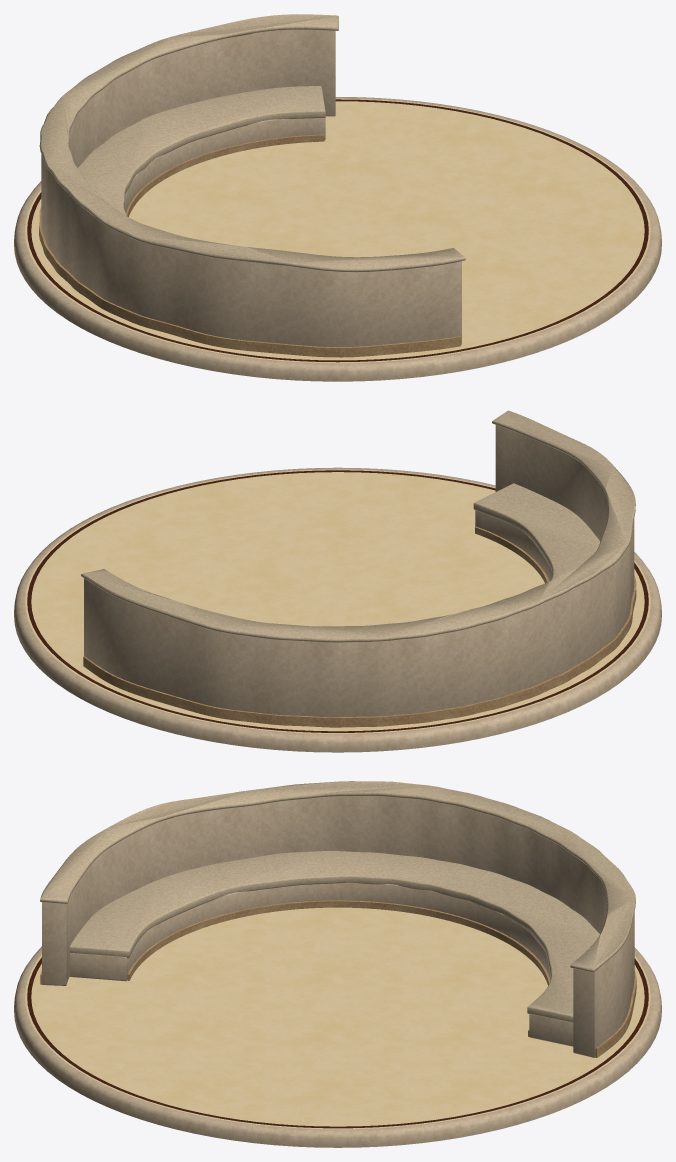
Rendered from structure.glb.
3 views of the same model, one above another, from view 1: azimuth 30°, elevation 25°; view 2: azimuth 150°, elevation 25°; view 3: azimuth 270°, elevation 25° (orthographic).
Parts seen in each view (by area): view 1: Mesh_Platform, Mesh_CurvedBack, Mesh_PlatformEdge, Mesh_WallCap, Mesh_SeatTop, Mesh_BaseCourseBack, Mesh_SeatPlinth, Mesh_PlatformInlay, Mesh_BaseCourseSeat; view 2: Mesh_Platform, Mesh_CurvedBack, Mesh_PlatformEdge, Mesh_WallCap, Mesh_BaseCourseBack, Mesh_SeatTop, Mesh_PlatformInlay, Mesh_SeatPlinth, Mesh_BaseCourseSeat; view 3: Mesh_Platform, Mesh_CurvedBack, Mesh_SeatTop, Mesh_PlatformEdge, Mesh_WallCap, Mesh_SeatPlinth, Mesh_BaseCourseSeat, Mesh_PlatformInlay, Mesh_BaseCourseBack.
Boxes of the visible parts, left/top/right/bottom form: Mesh_Platform: left=25, top=98, right=650, bottom=363; Mesh_CurvedBack: left=41, top=29, right=461, bottom=346; Mesh_PlatformEdge: left=14, top=97, right=661, bottom=381; Mesh_WallCap: left=39, top=14, right=465, bottom=272; Mesh_SeatTop: left=78, top=86, right=325, bottom=215; Mesh_BaseCourseBack: left=39, top=207, right=460, bottom=357; Mesh_SeatPlinth: left=124, top=118, right=325, bottom=212; Mesh_PlatformInlay: left=27, top=99, right=648, bottom=362; Mesh_BaseCourseSeat: left=126, top=134, right=324, bottom=216; Mesh_Platform: left=25, top=469, right=650, bottom=733; Mesh_CurvedBack: left=84, top=425, right=634, bottom=717; Mesh_PlatformEdge: left=14, top=467, right=661, bottom=752; Mesh_WallCap: left=81, top=410, right=635, bottom=642; Mesh_BaseCourseBack: left=83, top=575, right=636, bottom=727; Mesh_SeatTop: left=473, top=483, right=600, bottom=580; Mesh_PlatformInlay: left=27, top=470, right=648, bottom=732; Mesh_SeatPlinth: left=475, top=510, right=552, bottom=581; Mesh_BaseCourseSeat: left=475, top=526, right=549, bottom=583; Mesh_Platform: left=25, top=907, right=650, bottom=1129; Mesh_CurvedBack: left=42, top=796, right=634, bottom=1057; Mesh_SeatTop: left=70, top=851, right=599, bottom=1022; Mesh_PlatformEdge: left=14, top=946, right=661, bottom=1147; Mesh_WallCap: left=40, top=781, right=635, bottom=972; Mesh_SeatPlinth: left=69, top=882, right=573, bottom=1046; Mesh_BaseCourseSeat: left=127, top=900, right=550, bottom=1036; Mesh_PlatformInlay: left=27, top=957, right=648, bottom=1128; Mesh_BaseCourseBack: left=40, top=970, right=636, bottom=1057.
Size of the model in its own units: 9.36 by 1.7 by 9.36.
5 materials, 5 textured.
